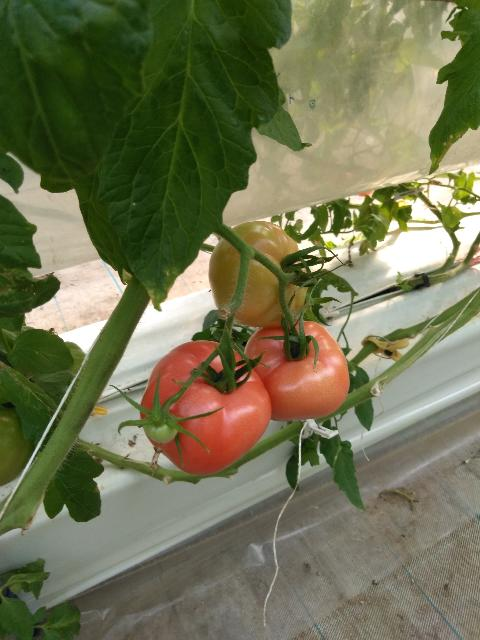b_fully_ripened: (140, 340, 272, 475)
b_green: (0, 405, 38, 486), (141, 411, 179, 444)
b_half_ripened: (208, 220, 310, 328), (241, 320, 350, 421)
